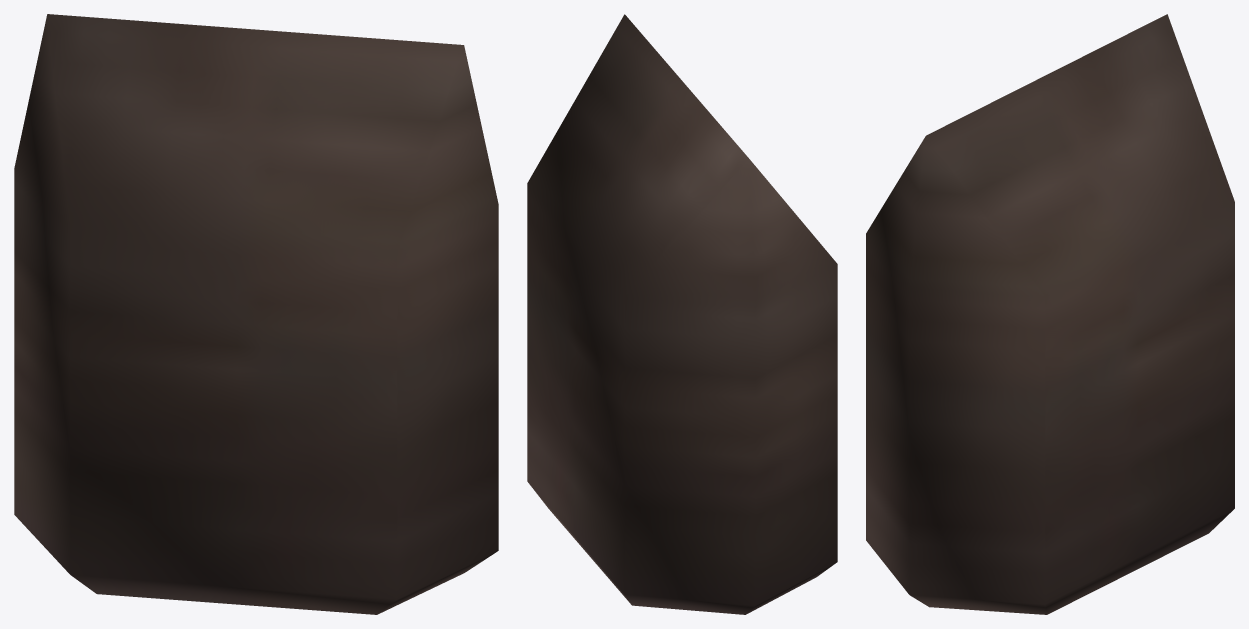
The picture shows the model from 3 angles, left to right: view 1: azimuth 30°, elevation 25°; view 2: azimuth 150°, elevation 25°; view 3: azimuth 270°, elevation 25°; orthographic projection. The views are drawn at different scales.
Visible parts, largest first — view 1: Soap_powder_01001_Hygiene_0; view 2: Soap_powder_01001_Hygiene_0; view 3: Soap_powder_01001_Hygiene_0.
Part boxes in pixels (bbox=[...]): Soap_powder_01001_Hygiene_0: bbox=[14, 14, 498, 614]; Soap_powder_01001_Hygiene_0: bbox=[527, 14, 837, 614]; Soap_powder_01001_Hygiene_0: bbox=[866, 14, 1234, 614].
Size of the model in its own units: 0.1836 by 0.2534 by 0.18.
Materials: 1 (1 with a texture image).
